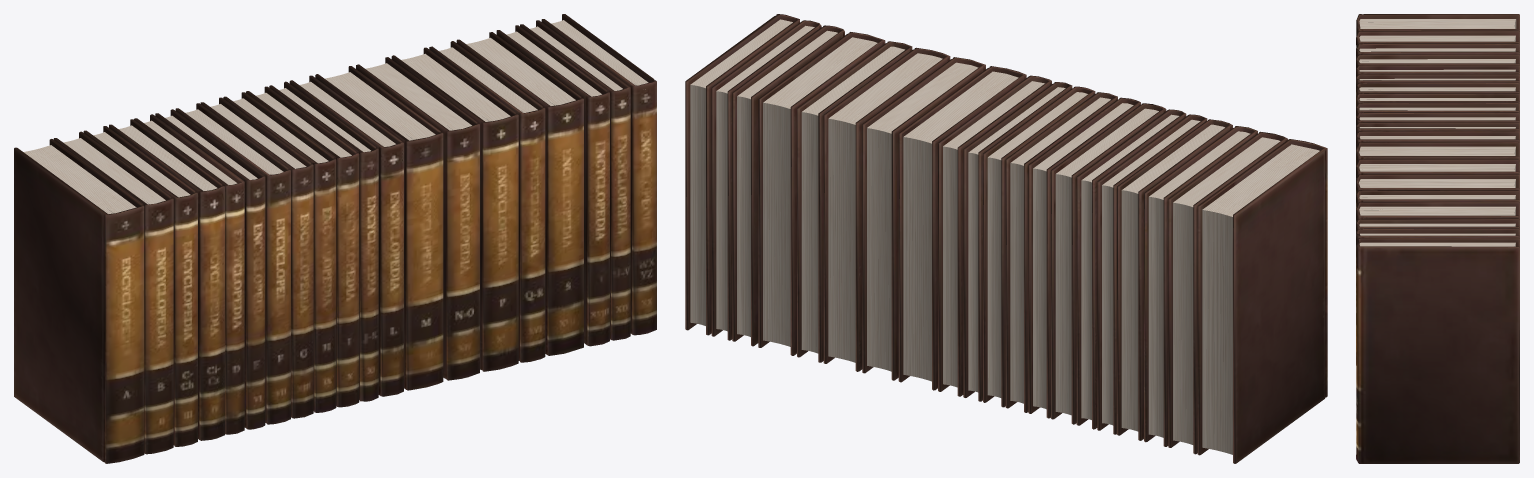
Rendered from book_encyclopedia_set_01.glb.
3 renders of one model, left to right at view 1: azimuth 30°, elevation 25°; view 2: azimuth 150°, elevation 25°; view 3: azimuth 270°, elevation 25°, orthographic. The views are drawn at different scales.
Parts seen in each view (by area): view 1: book_encyclopedia_set_01_book01; view 2: book_encyclopedia_set_01_book01; view 3: book_encyclopedia_set_01_book01.
Part boxes in pixels (bbox=[...]): book_encyclopedia_set_01_book01: bbox=[14, 14, 656, 463]; book_encyclopedia_set_01_book01: bbox=[685, 14, 1327, 463]; book_encyclopedia_set_01_book01: bbox=[1356, 14, 1519, 463].
Bounding box in the file's own units: 0.5513 × 0.2374 × 0.1631.
Materials: 2 (2 with a texture image).
